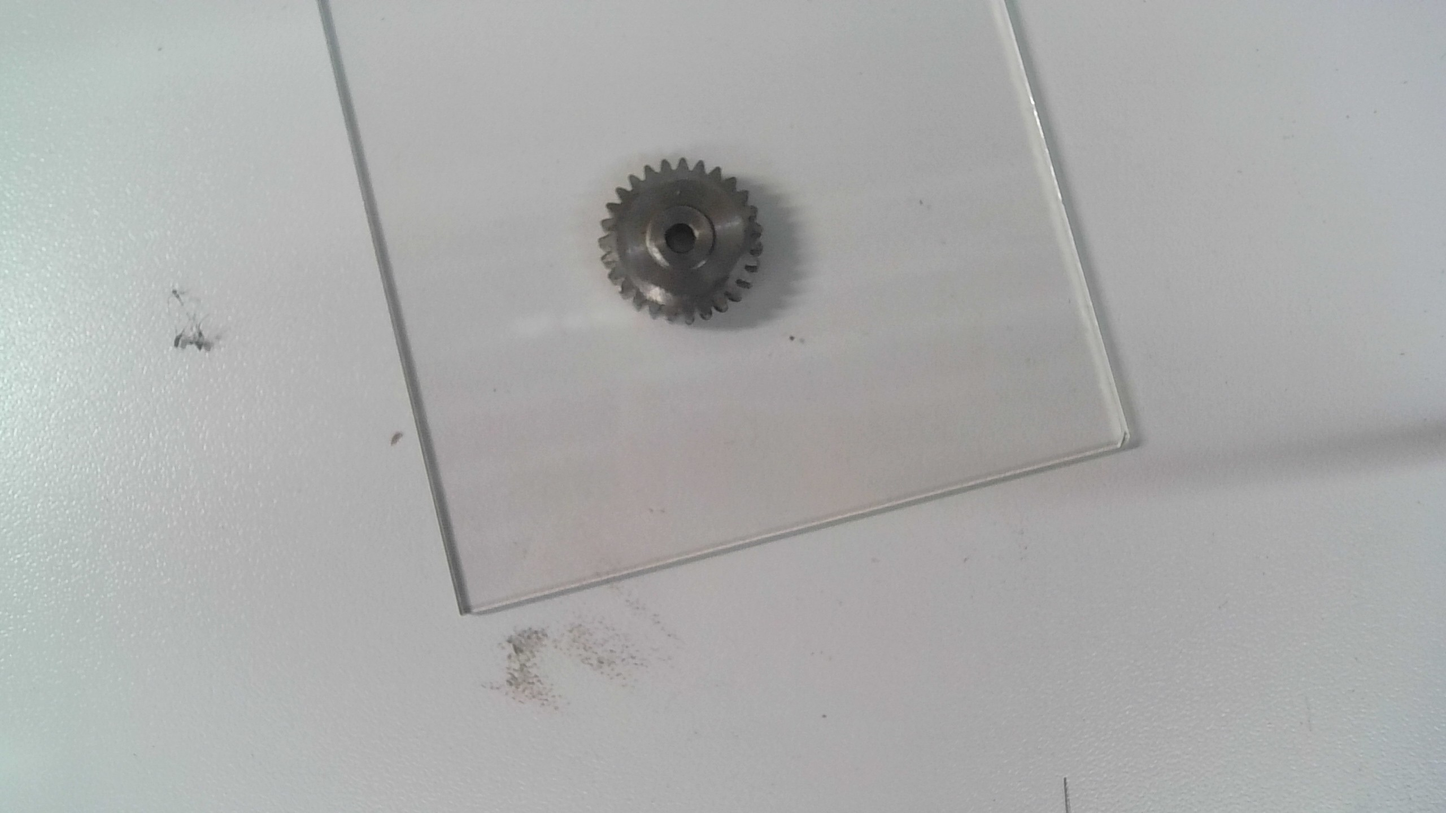gear: (596, 154, 764, 328)
